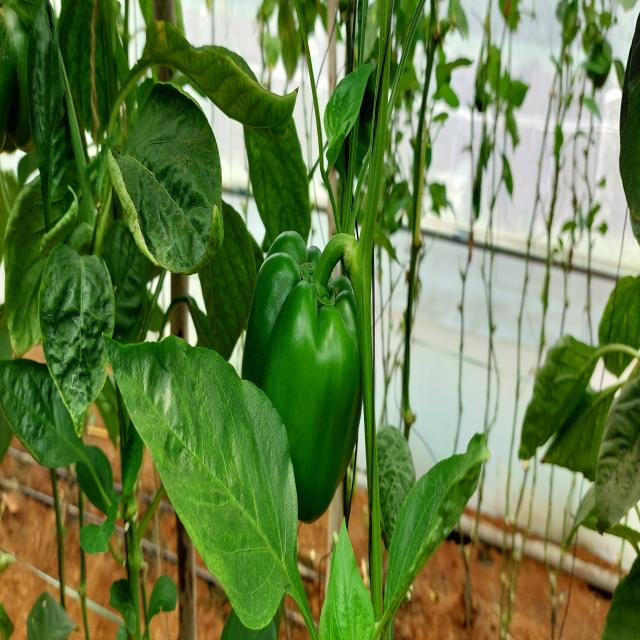Green--Not-ready-to-harvest: (243, 212, 364, 519)
